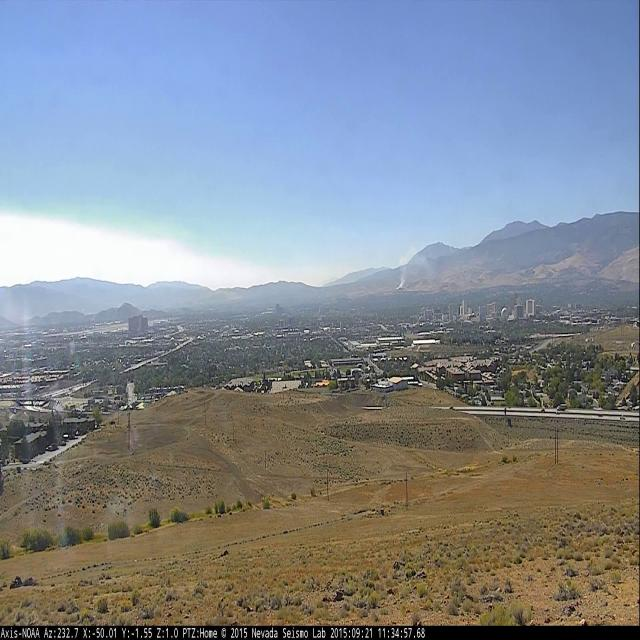smoke: (397, 246, 434, 288)
